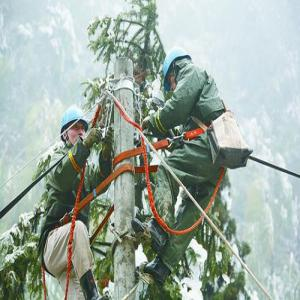blue: (59, 104, 89, 152), (163, 49, 191, 96)
